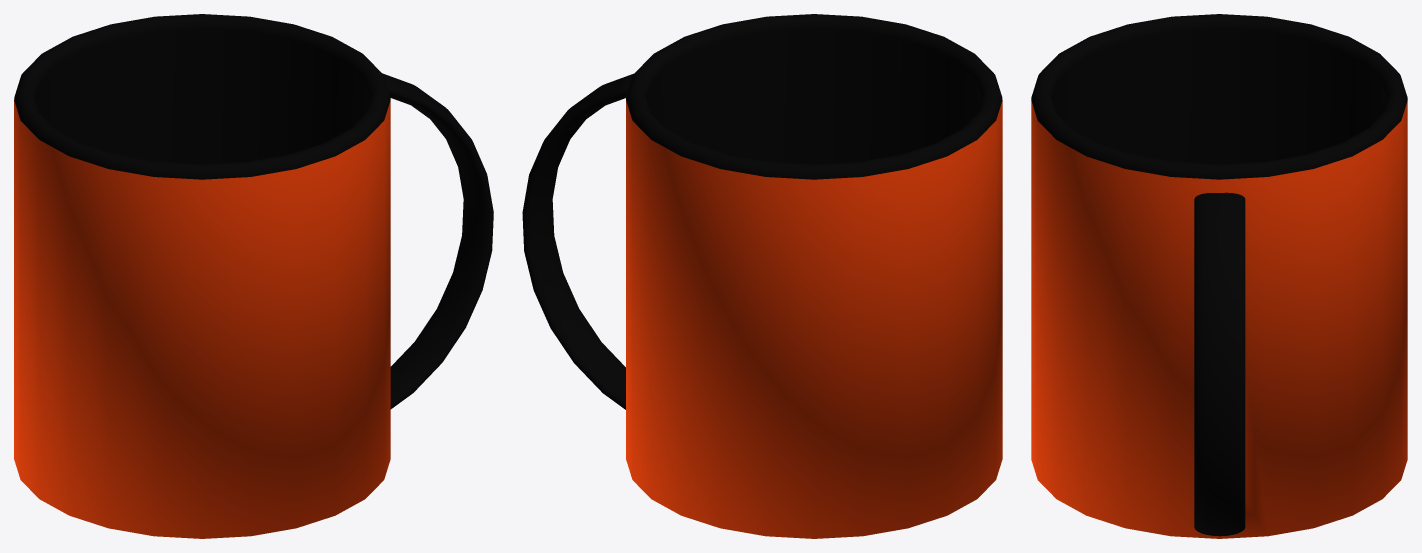
Rendered from mug_20_origin_gt_7.dae.
3 views of the same model, side by side, from view 1: azimuth 30°, elevation 25°; view 2: azimuth 150°, elevation 25°; view 3: azimuth 270°, elevation 25° (orthographic).
Visible parts, largest first — view 1: group_2 (×3); view 2: group_2 (×3); view 3: group_2 (×3).
Part boxes in pixels (x1,y1,x2,y2): group_2 (×3): (14,14,493,538); group_2 (×3): (522,14,1002,538); group_2 (×3): (1031,14,1407,538).
Size of the model in its own units: 7.25 by 5.28 by 5.72.
